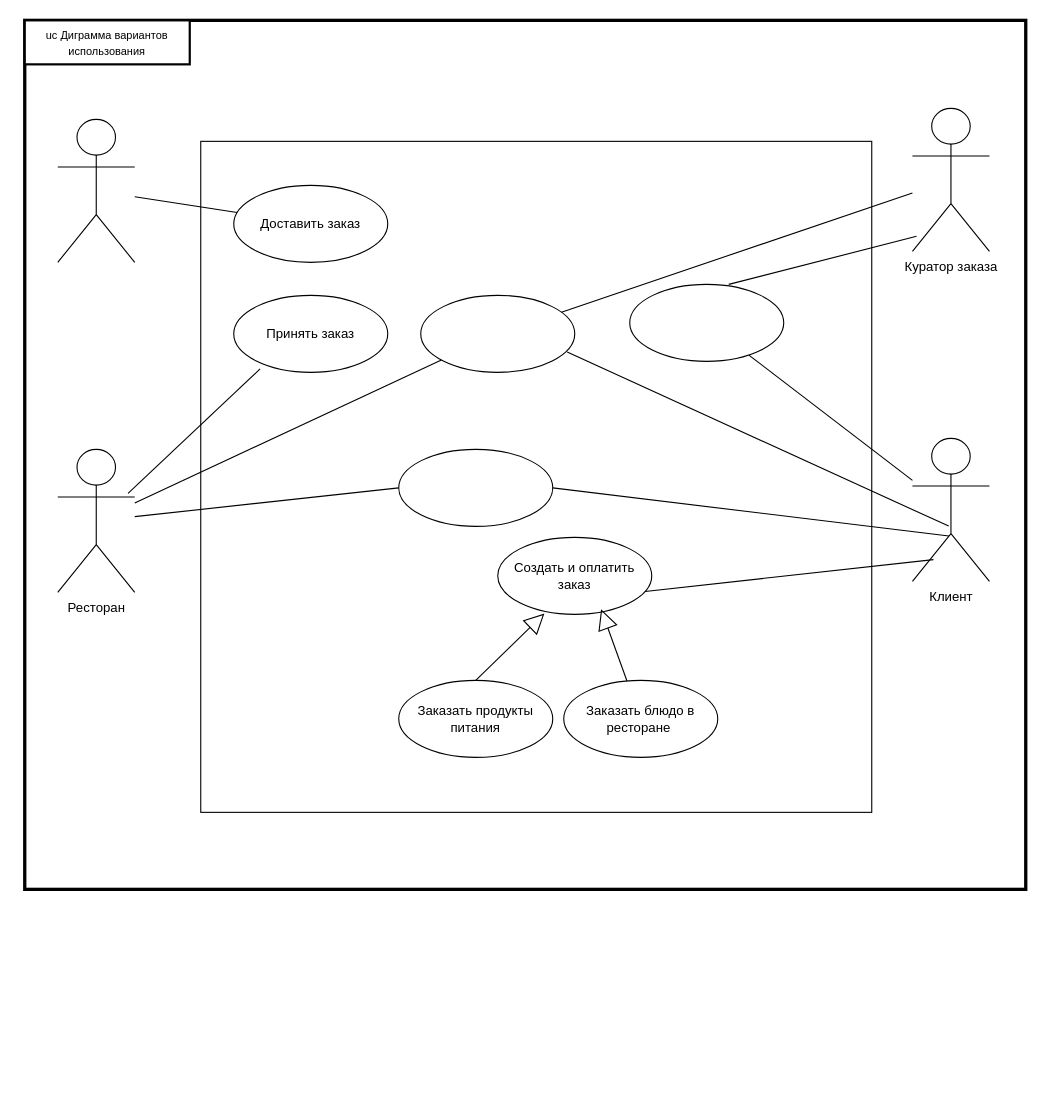
The diagram is 1046 pixels wide and 1093 high, and some of its shapes have lost their labels. The shapes that lost their labels are listed below. From the top down, each one's centre as x and y in pixels, then its label:
At (x=96, y=190): "Курьер".
At (x=497, y=333): "Связаться с курьером".
At (x=706, y=322): "Отслеживать статус заказа".
At (x=475, y=487): "Отменить заказ".
